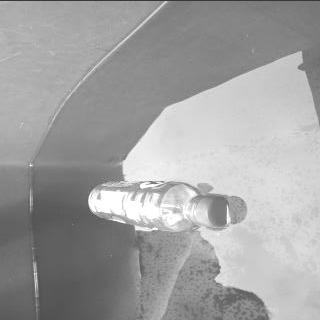bottle: (86, 178, 232, 232)
